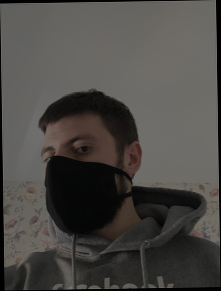with_mask: (41, 131, 121, 237)
